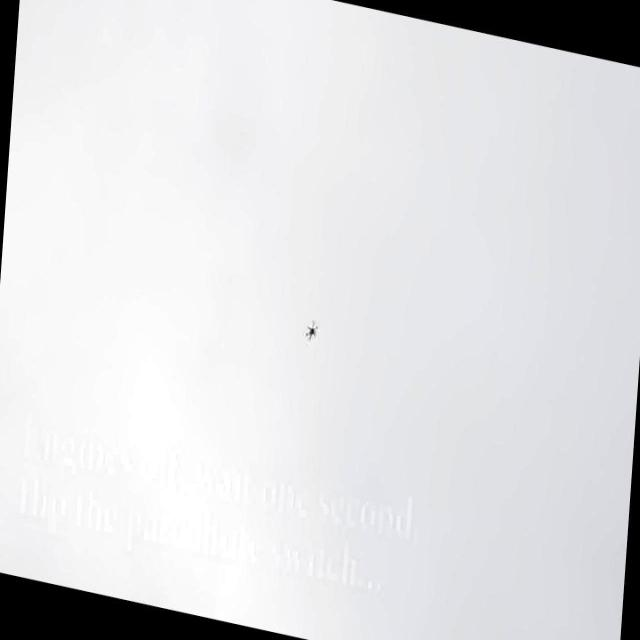drone: (304, 316, 318, 343)
